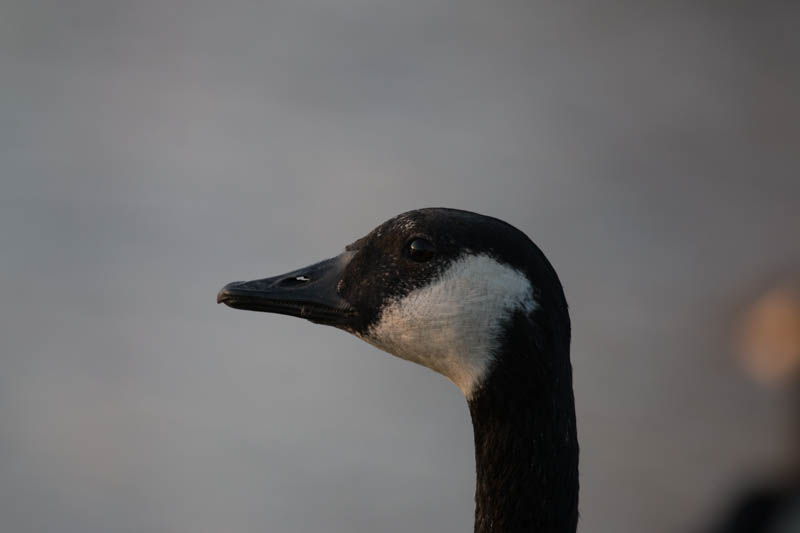goose-head: (215, 207, 571, 404)
